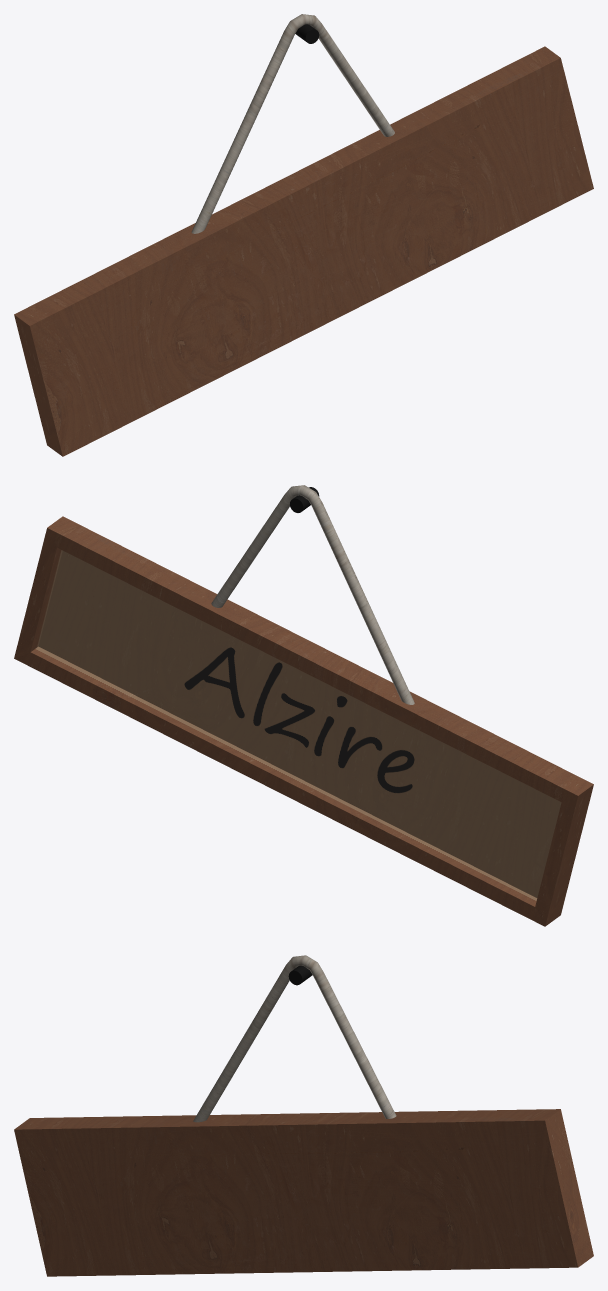
File: Chambre_Pancarte_2.fbx
The picture shows the model from 3 angles, top to bottom: view 1: azimuth 30°, elevation 25°; view 2: azimuth 150°, elevation 25°; view 3: azimuth 330°, elevation 25°; orthographic projection.
Parts seen in each view (by area): view 1: Box002; view 2: Box002; view 3: Box002.
Boxes of the visible parts, box(x1,y1,x2,y2) form: Box002: box(14, 14, 593, 456); Box002: box(14, 485, 593, 926); Box002: box(14, 955, 593, 1276).
Bounding box in the file's own units: 0.4123 × 0.2621 × 0.0207.
Materials: 3 (2 with a texture image).
